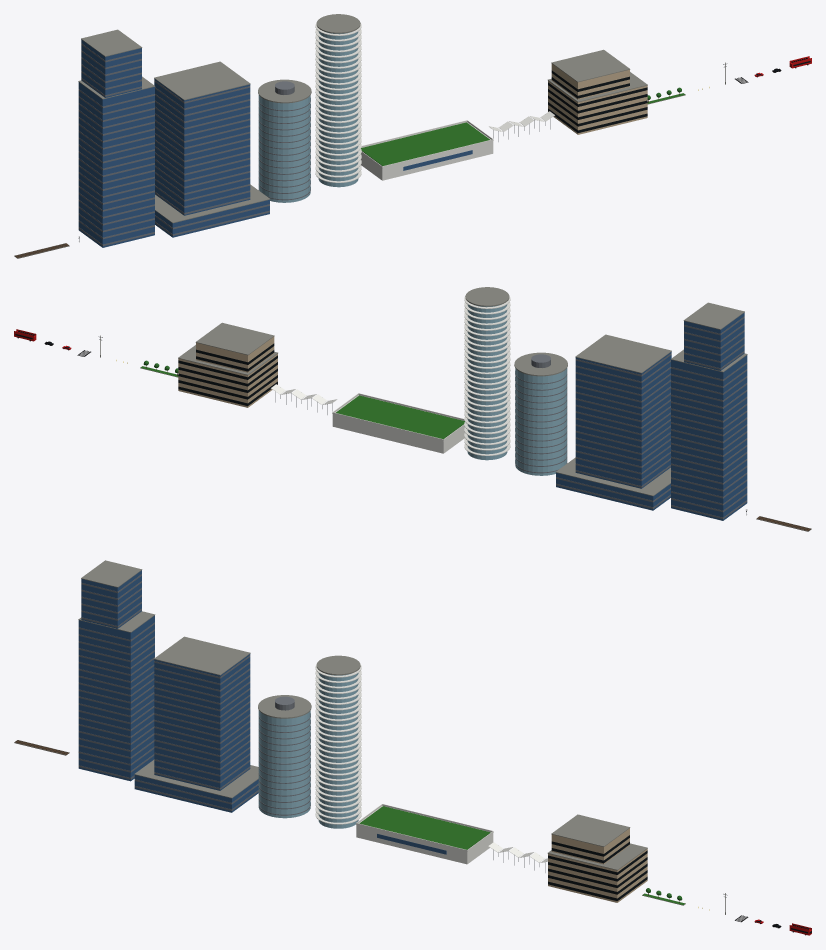
File: ArbolesC.obj
The picture shows the model from 3 angles, top to bottom: view 1: azimuth 30°, elevation 25°; view 2: azimuth 150°, elevation 25°; view 3: azimuth 330°, elevation 25°; orthographic projection.
Parts seen in each view (by area): view 1: E1A_torre_cristal_B, E1A_torre_cristal_A, E1A_torre_balcones, E1A_edificio_beige, E1A_torre_cilindrica, E1A_edificio_techo_verde, E1A_dosel_velas; view 2: E1A_torre_cristal_B, E1A_torre_cristal_A, E1A_torre_balcones, E1A_edificio_beige, E1A_torre_cilindrica, E1A_edificio_techo_verde, E1A_dosel_velas; view 3: E1A_torre_cristal_B, E1A_torre_cristal_A, E1A_torre_balcones, E1A_edificio_beige, E1A_torre_cilindrica, E1A_edificio_techo_verde.
Boxes of the visible parts, left/top/right/bottom form: E1A_torre_cristal_B: left=154, top=61, right=270, bottom=237; E1A_torre_cristal_A: left=78, top=29, right=155, bottom=247; E1A_torre_balcones: left=315, top=14, right=361, bottom=187; E1A_edificio_beige: left=548, top=49, right=647, bottom=134; E1A_torre_cilindrica: left=258, top=79, right=311, bottom=202; E1A_edificio_techo_verde: left=361, top=120, right=493, bottom=180; E1A_dosel_velas: left=488, top=111, right=554, bottom=141; E1A_torre_cristal_B: left=555, top=334, right=671, bottom=510; E1A_torre_cristal_A: left=670, top=302, right=747, bottom=520; E1A_torre_balcones: left=464, top=287, right=510, bottom=460; E1A_edificio_beige: left=178, top=322, right=277, bottom=407; E1A_torre_cilindrica: left=514, top=352, right=567, bottom=475; E1A_edificio_techo_verde: left=332, top=393, right=464, bottom=453; E1A_dosel_velas: left=271, top=384, right=337, bottom=414; E1A_torre_cristal_B: left=134, top=636, right=258, bottom=812; E1A_torre_cristal_A: left=78, top=560, right=155, bottom=781; E1A_torre_balcones: left=315, top=655, right=361, bottom=828; E1A_edificio_beige: left=547, top=814, right=647, bottom=902; E1A_torre_cilindrica: left=258, top=695, right=311, bottom=818; E1A_edificio_techo_verde: left=356, top=804, right=493, bottom=864.
Size of the model in its own units: 458 by 105 by 38.3.
